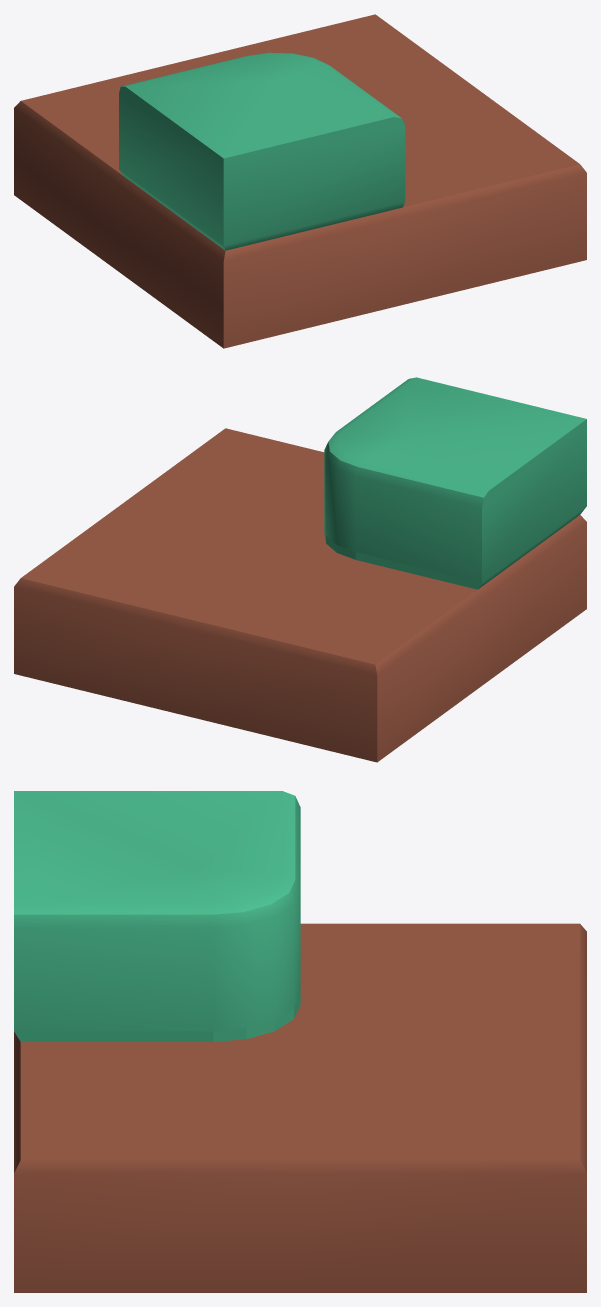
Rendered from square_forest_waterOuterCorner_empty.glb.
3 renders of one model, top to bottom at view 1: azimuth 30°, elevation 25°; view 2: azimuth 150°, elevation 25°; view 3: azimuth 270°, elevation 25°, orthographic. The views are drawn at different scales.
Parts seen in each view (by area): view 1: square_forest_waterOuterCorner_empty; view 2: square_forest_waterOuterCorner_empty; view 3: square_forest_waterOuterCorner_empty.
Part boxes in pixels (box(x1,y1,x2,y2)): square_forest_waterOuterCorner_empty: box(14, 14, 586, 348); square_forest_waterOuterCorner_empty: box(14, 377, 586, 762); square_forest_waterOuterCorner_empty: box(14, 791, 586, 1292).
Bounding box in the file's own units: 3.82 × 1.91 × 3.82.
